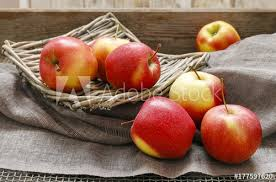apple: (136, 92, 196, 160), (204, 99, 264, 165), (104, 37, 162, 91), (43, 38, 98, 94), (171, 68, 226, 117), (89, 34, 136, 84), (197, 21, 240, 60)
